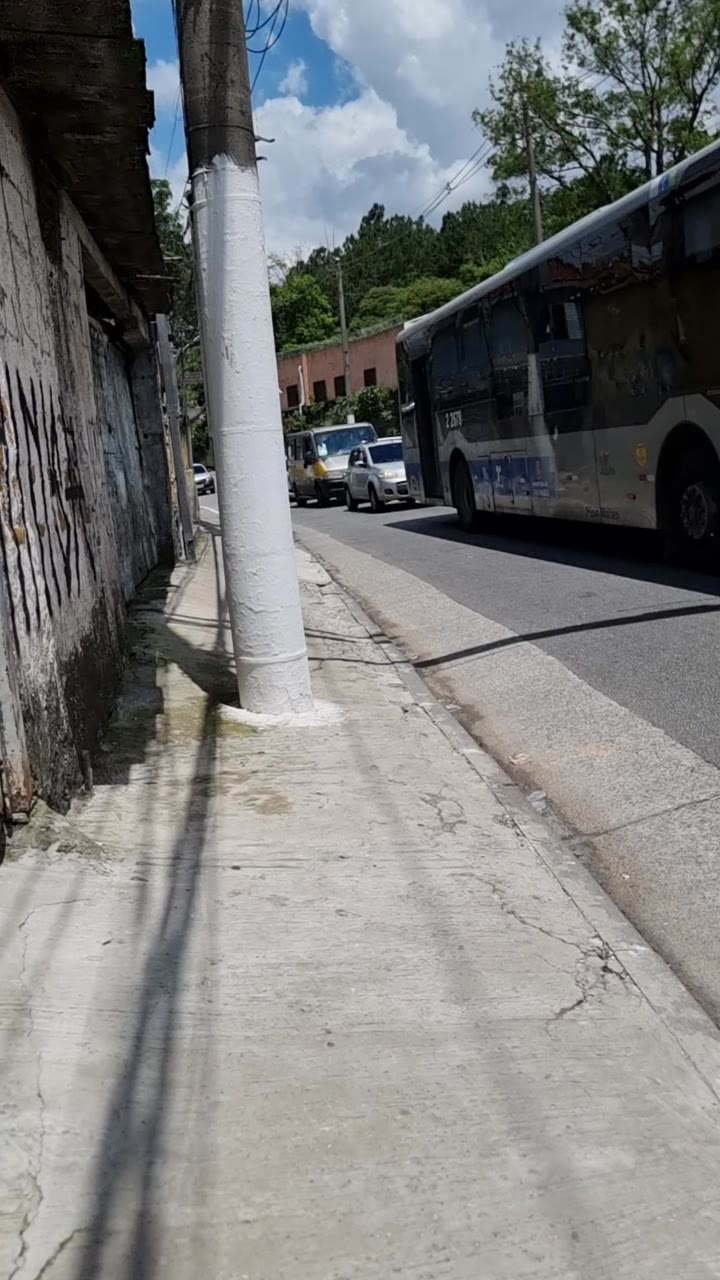obstaculo: (180, 0, 317, 730)
